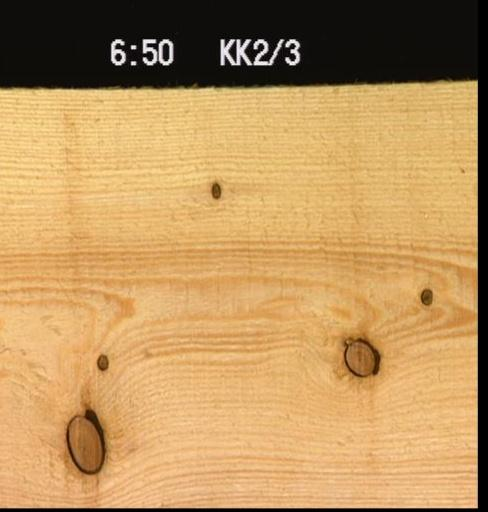dry_knot: (94, 350, 108, 372), (418, 285, 431, 306), (209, 180, 221, 200)
